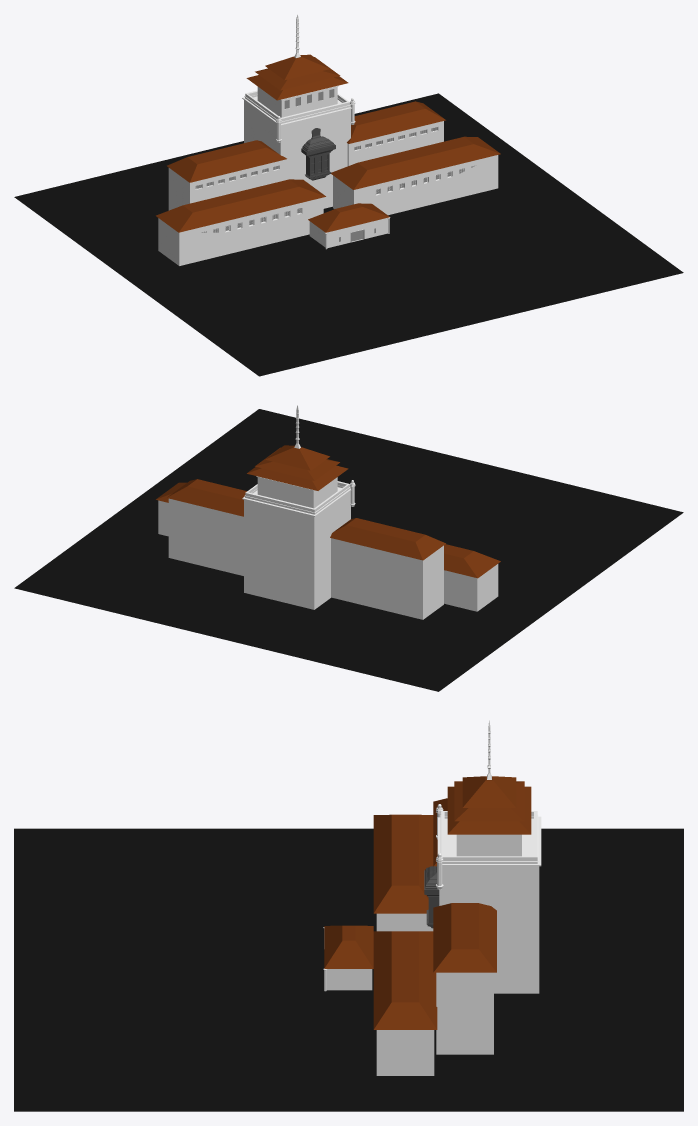
The model's file is BANDUNG.fbx.
The picture shows the model from 3 angles, top to bottom: view 1: azimuth 30°, elevation 25°; view 2: azimuth 150°, elevation 25°; view 3: azimuth 270°, elevation 25°; orthographic projection. The views are drawn at different scales.
Parts seen in each view (by area): view 1: Plane, Cube.001, Cube.002, Cube.003, Cube, Cube.004; view 2: Plane, Cube.003, Cube.002, Cube.001; view 3: Plane, Cube.002, Cube.001, Cube.003, Cube, Cube.004.
Part boxes in pixels (box(x1,y1,x2,y2)): Plane: box(14, 93, 683, 376); Cube.001: box(156, 136, 500, 265); Cube.002: box(242, 14, 352, 208); Cube.003: box(167, 101, 445, 210); Cube: box(308, 203, 389, 248); Cube.004: box(301, 128, 335, 180); Plane: box(14, 409, 683, 691); Cube.003: box(167, 479, 445, 619); Cube.002: box(242, 405, 351, 609); Cube.001: box(156, 482, 500, 611); Plane: box(14, 828, 683, 1111); Cube.002: box(437, 720, 541, 993); Cube.001: box(373, 814, 437, 1075); Cube.003: box(433, 798, 496, 1054); Cube: box(324, 925, 373, 990); Cube.004: box(424, 866, 439, 928).
Size of the model in its own units: 4269 by 1757 by 4269.
